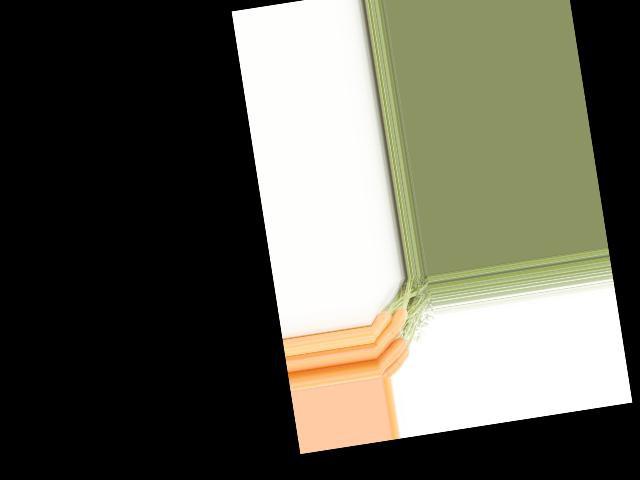carrot: (369, 309, 396, 340)
